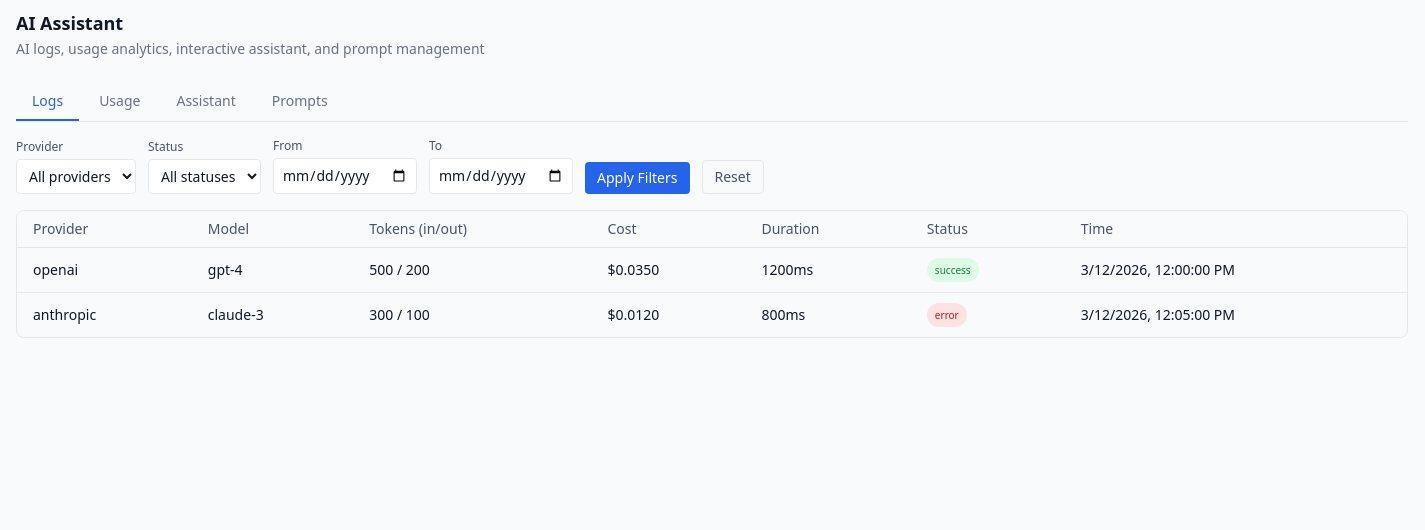
AIAssistant › switches to usage tab and shows summary
Expected: the text "openai" is shown, [17, 248, 192, 292]
Click the button "Usage".
click(120, 102)  # box [83, 83, 156, 121]
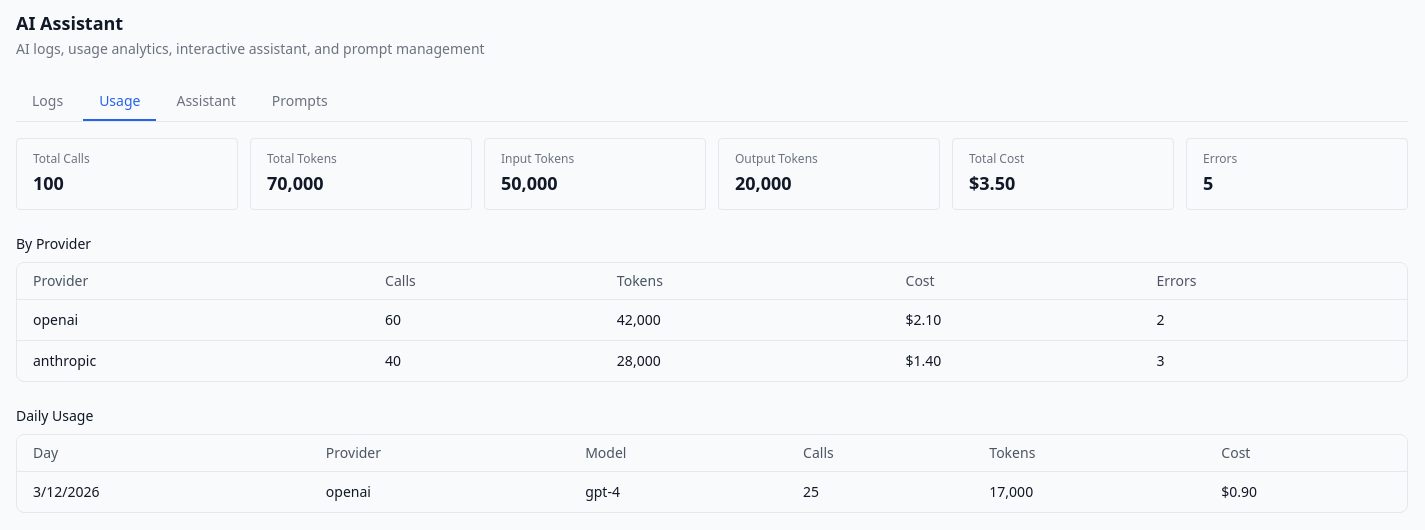
Expected: the text "100" is shown, [33, 171, 64, 195]
Result: the text "$3.50" is shown at [969, 171, 1015, 195]
